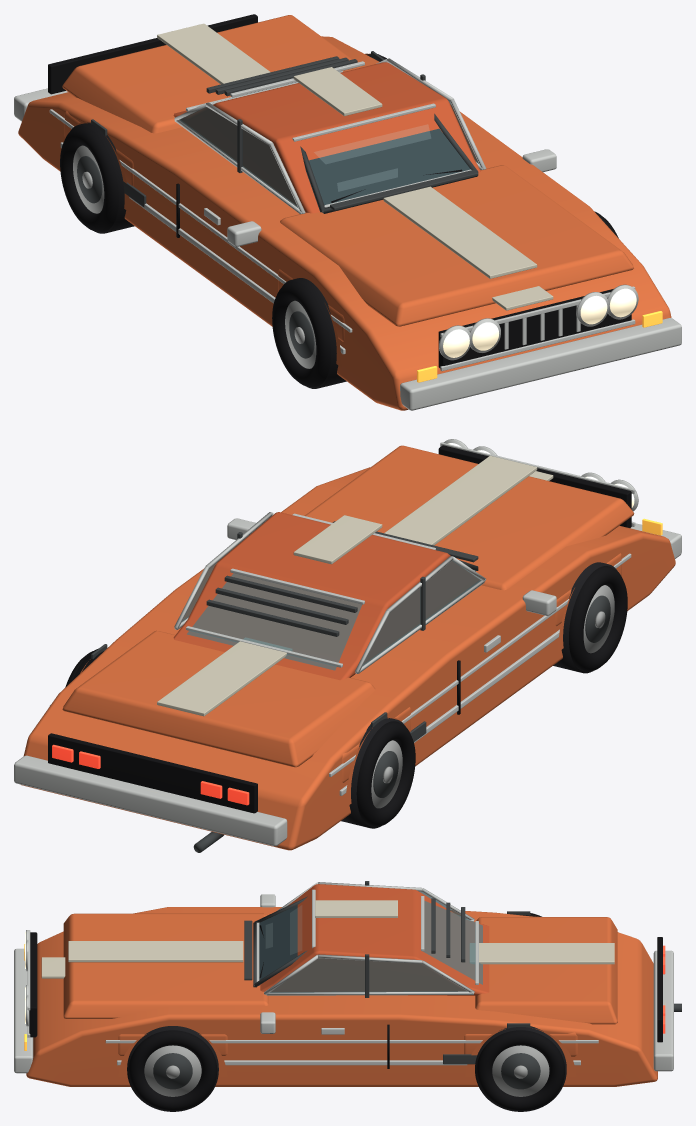
File: sabre-turbo.glb
3 views of the same model, one above another, from view 1: azimuth 30°, elevation 25°; view 2: azimuth 150°, elevation 25°; view 3: azimuth 270°, elevation 25° (orthographic). The views are drawn at different scales.
Visible parts, largest first — view 1: Body_AttachedMuscleShell, Hood_IntegratedLongMuscleHood, Cabin_AttachedFastbackGreenhouse, Trunk_IntegratedSlopedDeck, Front_ChromeBumper_Attached, Glass_AttachedWindshield, Stripe_FlushHoodCenter, Glass_AttachedSideWindow_Left, Stripe_FlushRearDeckCenter, WheelMesh_WheelFrontLeft_OuterRoundedSidewall, WheelMesh_WheelRearLeft_OuterRoundedSidewall, Front_BlackInsetGrille (+22 smaller); view 2: Body_AttachedMuscleShell, Cabin_AttachedFastbackGreenhouse, Trunk_IntegratedSlopedDeck, Hood_IntegratedLongMuscleHood, Rear_ChromeBumper_Attached, Glass_AttachedRearWindow, Rear_BlackInsetPanel, Stripe_FlushHoodCenter, Stripe_FlushRearDeckCenter, Glass_AttachedSideWindow_Left, WheelMesh_WheelFrontLeft_OuterRoundedSidewall, WheelMesh_WheelRearLeft_OuterRoundedSidewall (+17 smaller); view 3: Body_AttachedMuscleShell, Cabin_AttachedFastbackGreenhouse, Hood_IntegratedLongMuscleHood, Trunk_IntegratedSlopedDeck, Glass_AttachedSideWindow_Right, Stripe_FlushHoodCenter, WheelMesh_WheelFrontRight_OuterRoundedSidewall, WheelMesh_WheelRearRight_OuterRoundedSidewall, Stripe_FlushRearDeckCenter, Glass_AttachedRearWindow, Glass_AttachedWindshield, Rear_ChromeBumper_Attached (+22 smaller).
Boxes of the visible parts, <box> form: Body_AttachedMuscleShell: <box>18,36,671,410</box>; Hood_IntegratedLongMuscleHood: <box>280,165,633,326</box>; Cabin_AttachedFastbackGreenhouse: <box>173,62,480,213</box>; Trunk_IntegratedSlopedDeck: <box>62,15,362,133</box>; Front_ChromeBumper_Attached: <box>400,318,681,410</box>; Glass_AttachedWindshield: <box>309,128,470,204</box>; Stripe_FlushHoodCenter: <box>383,186,537,278</box>; Glass_AttachedSideWindow_Left: <box>179,107,298,208</box>; Stripe_FlushRearDeckCenter: <box>157,23,270,84</box>; WheelMesh_WheelFrontLeft_OuterRoundedSidewall: <box>272,281,330,386</box>; WheelMesh_WheelRearLeft_OuterRoundedSidewall: <box>60,126,118,231</box>; Front_BlackInsetGrille: <box>438,289,631,368</box>; Body_AttachedMuscleShell: <box>21,467,675,850</box>; Cabin_AttachedFastbackGreenhouse: <box>173,512,479,680</box>; Trunk_IntegratedSlopedDeck: <box>62,630,375,767</box>; Hood_IntegratedLongMuscleHood: <box>304,445,634,590</box>; Rear_ChromeBumper_Attached: <box>14,755,287,846</box>; Glass_AttachedRearWindow: <box>187,573,361,670</box>; Rear_BlackInsetPanel: <box>48,733,257,813</box>; Stripe_FlushHoodCenter: <box>384,455,537,545</box>; Stripe_FlushRearDeckCenter: <box>157,638,292,716</box>; Glass_AttachedSideWindow_Left: <box>362,560,481,666</box>; WheelMesh_WheelFrontLeft_OuterRoundedSidewall: <box>569,566,627,671</box>; WheelMesh_WheelRearLeft_OuterRoundedSidewall: <box>356,721,415,826</box>; Body_AttachedMuscleShell: <box>26,907,657,1086</box>; Cabin_AttachedFastbackGreenhouse: <box>260,884,489,995</box>; Hood_IntegratedLongMuscleHood: <box>63,913,268,1018</box>; Trunk_IntegratedSlopedDeck: <box>475,917,617,1024</box>; Glass_AttachedSideWindow_Right: <box>270,958,467,992</box>; Stripe_FlushHoodCenter: <box>68,941,243,962</box>; WheelMesh_WheelFrontRight_OuterRoundedSidewall: <box>128,1030,217,1111</box>; WheelMesh_WheelRearRight_OuterRoundedSidewall: <box>476,1030,564,1111</box>; Stripe_FlushRearDeckCenter: <box>470,943,614,964</box>; Glass_AttachedRearWindow: <box>422,900,482,984</box>; Glass_AttachedWindshield: <box>259,905,297,980</box>; Rear_ChromeBumper_Attached: <box>653,950,673,1071</box>.
Size of the model in its own units: 2.86 by 1.51 by 6.26.
